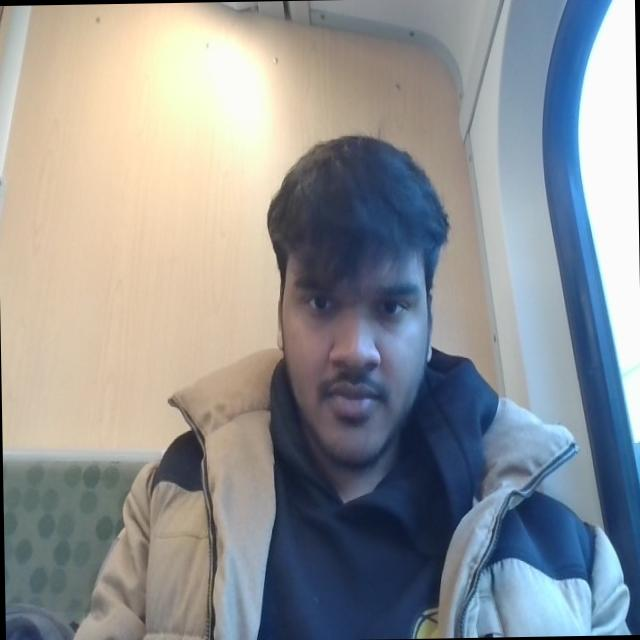no hat: (260, 116, 453, 233)
